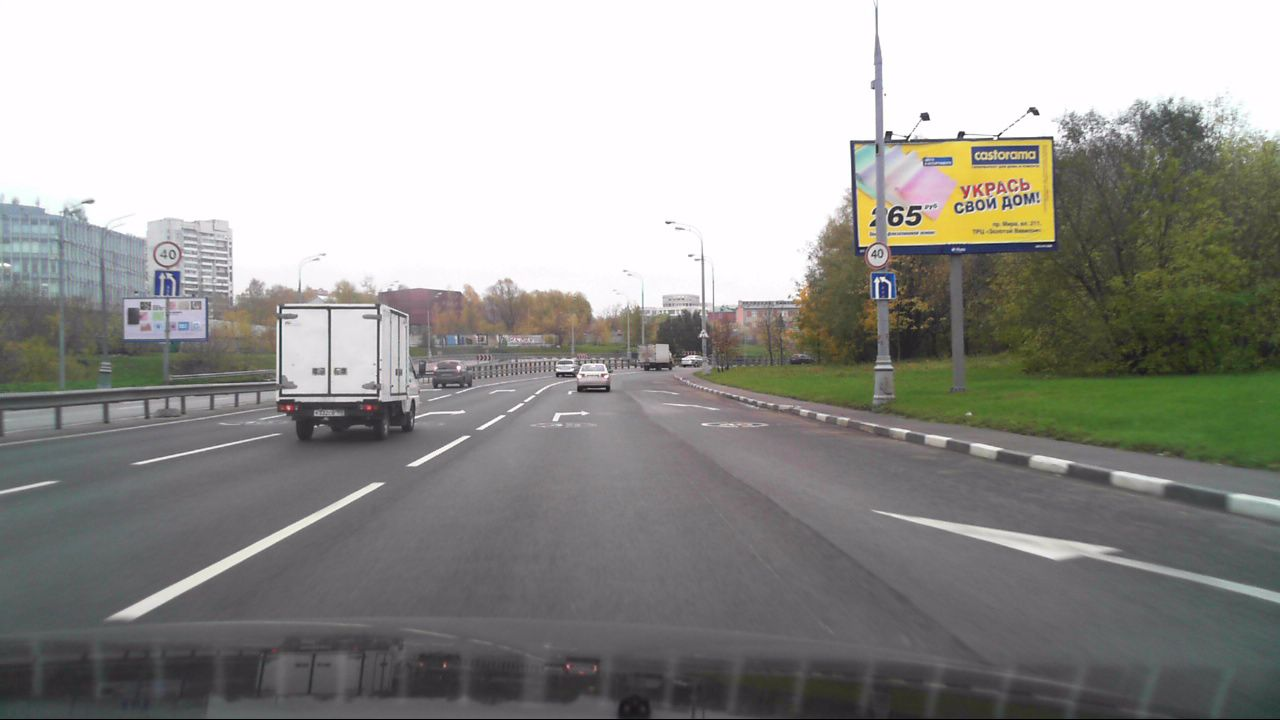speed_warning_40: (866, 240, 889, 269)
